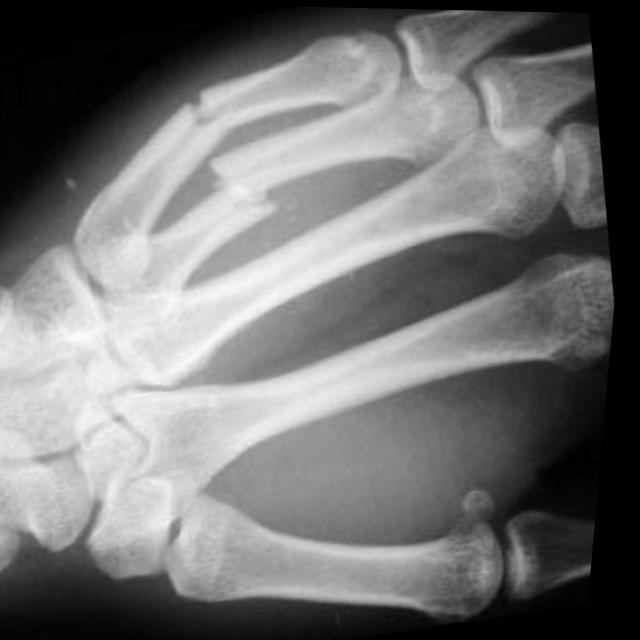fracture: (204, 150, 299, 236), (171, 77, 237, 152)
